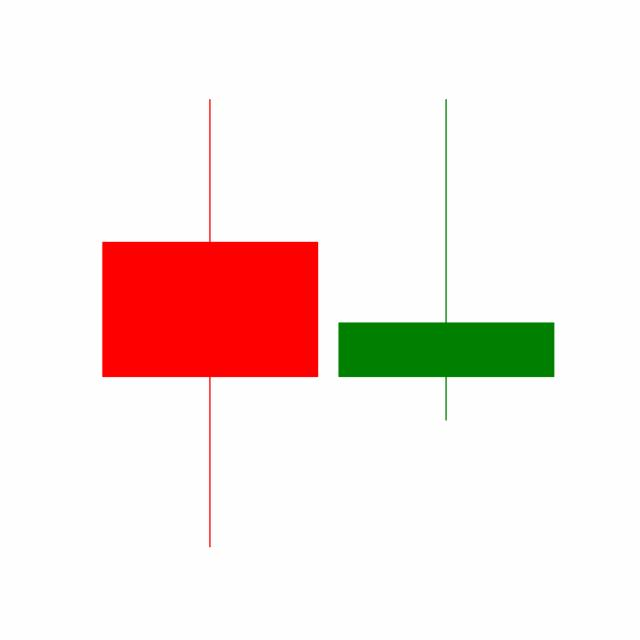Gravestone Doji: (327, 96, 565, 424)
